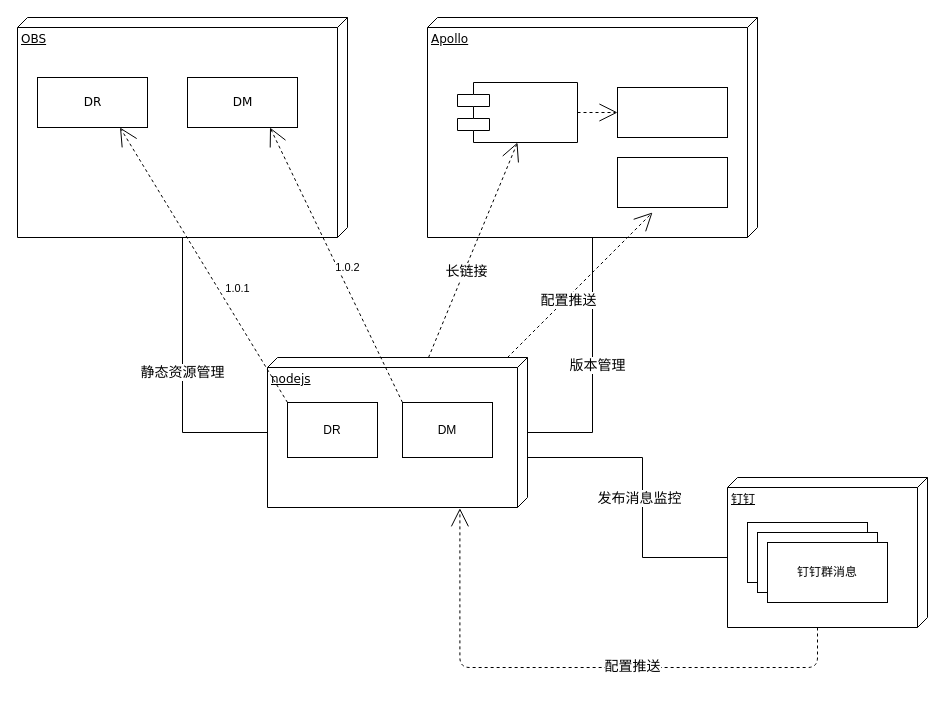
Image size: 945x703. Some labels were removed from this diagram. Here are the shapes that lost their labels. From the top down, the centre of each, then its label:
[517,112]: version config
[672,112]: web 控制台
[672,182]: 开放平台
